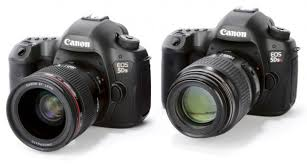camera: (8, 17, 151, 146), (162, 9, 298, 133)
